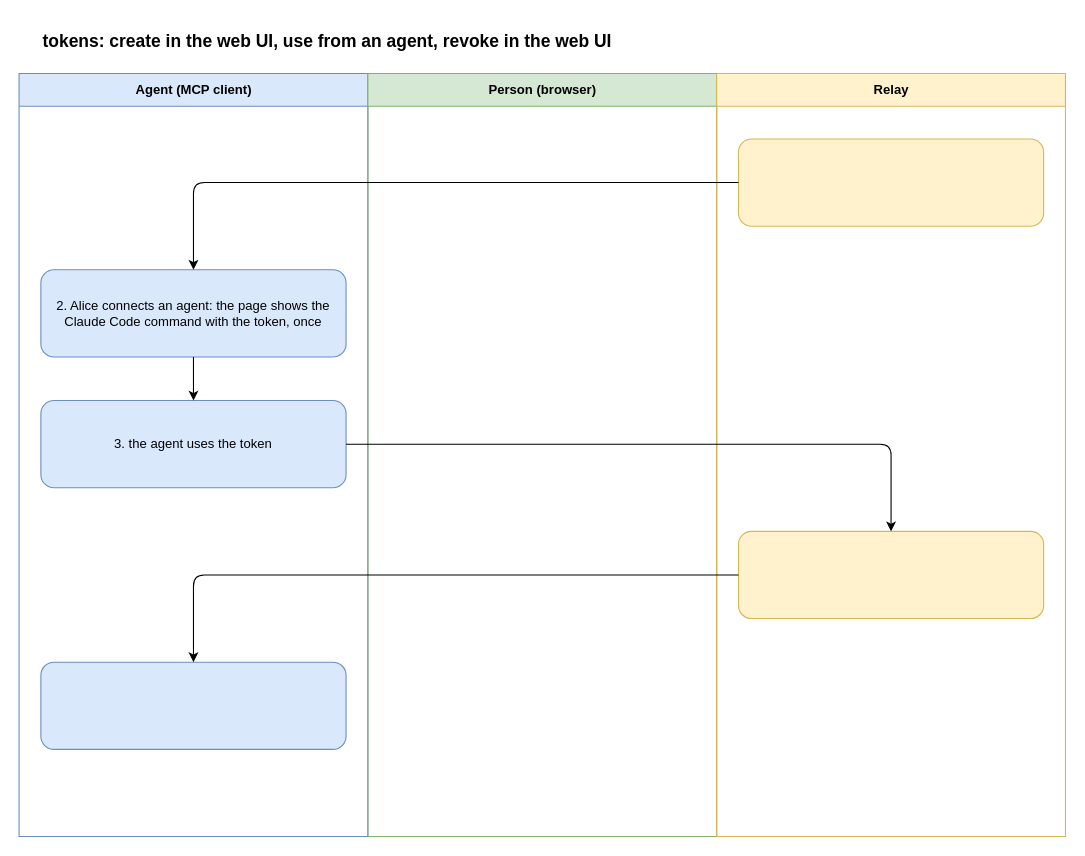
The diagram is 1085 pixels wide and 856 high, and some of its shapes have lost their labels. Each missing label, with the centre of its shape:
1. someone in no circle gets no token: (x=890, y=182)
4. Alice revokes it in the web UI: (x=890, y=574)
5. the agent now gets 401: (x=193, y=705)
